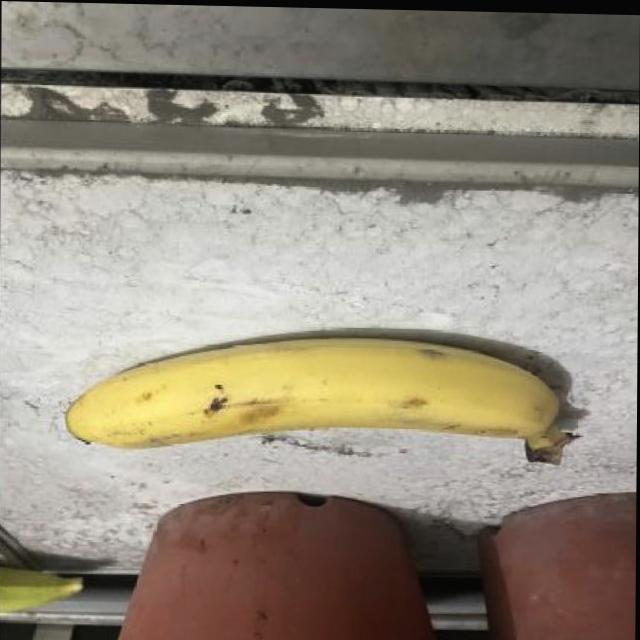banana: (59, 323, 586, 474)
